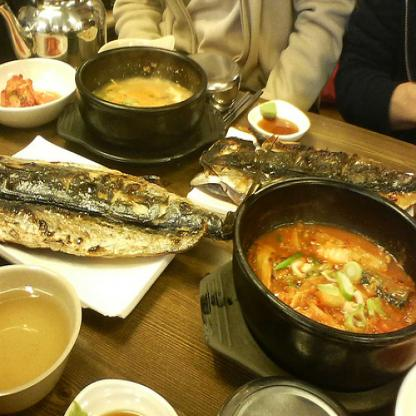Peixe: (0, 164, 210, 264), (203, 136, 416, 205)
